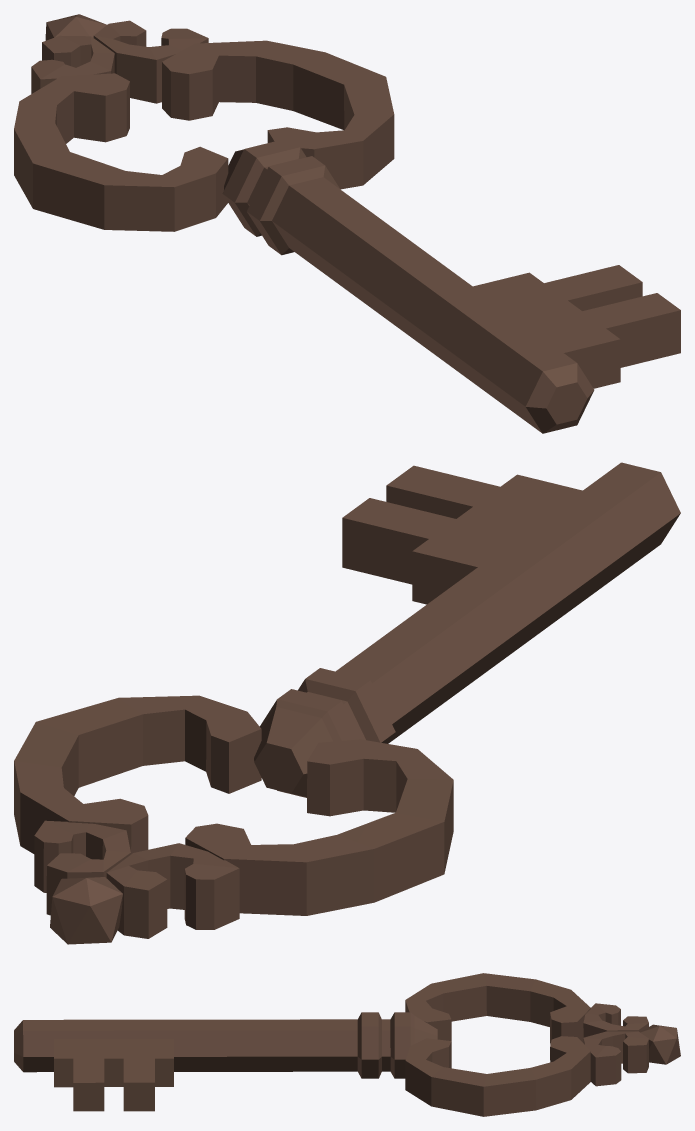
File: Key2.glb
3 renders of one model, top to bottom at view 1: azimuth 30°, elevation 25°; view 2: azimuth 150°, elevation 25°; view 3: azimuth 270°, elevation 25°, orthographic. The views are drawn at different scales.
Visible parts, largest first — view 1: Key2; view 2: Key2; view 3: Key2.
Part boxes in pixels (box(x1,y1,x2,y2)): Key2: box(14, 14, 680, 433); Key2: box(14, 462, 680, 944); Key2: box(14, 973, 680, 1116).
Size of the model in its own units: 0.401 by 0.0859 by 0.9928.
